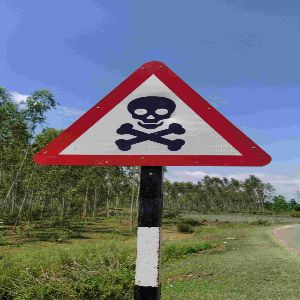Accident prone area: (29, 54, 277, 182)
